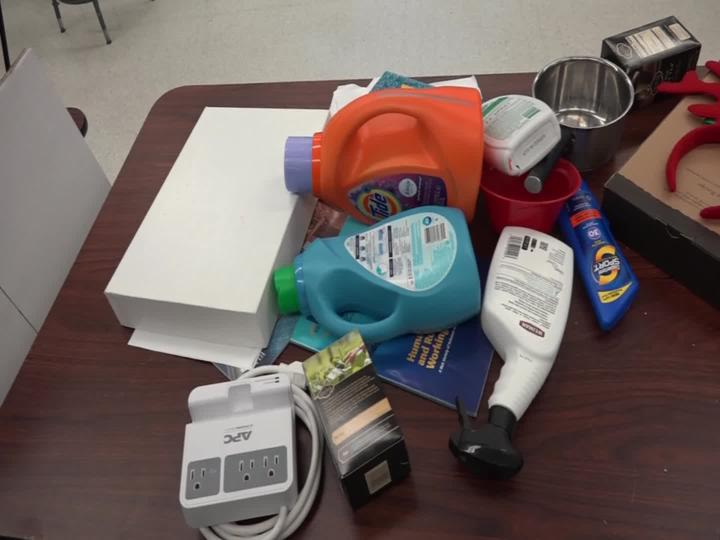tide: (271, 69, 495, 231)
